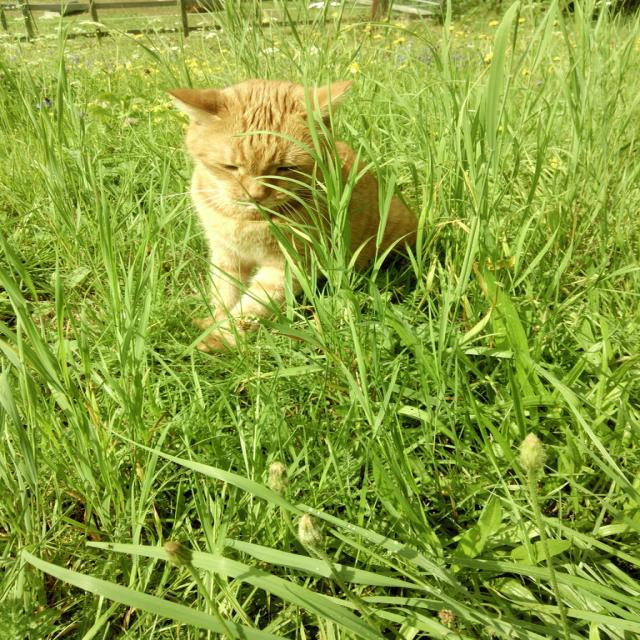Cat: (162, 76, 421, 354)
